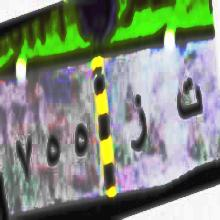5: (71, 115, 90, 178), (44, 128, 62, 175)
7: (14, 125, 37, 188)
taa: (175, 72, 203, 134)
zay: (128, 88, 149, 164)
